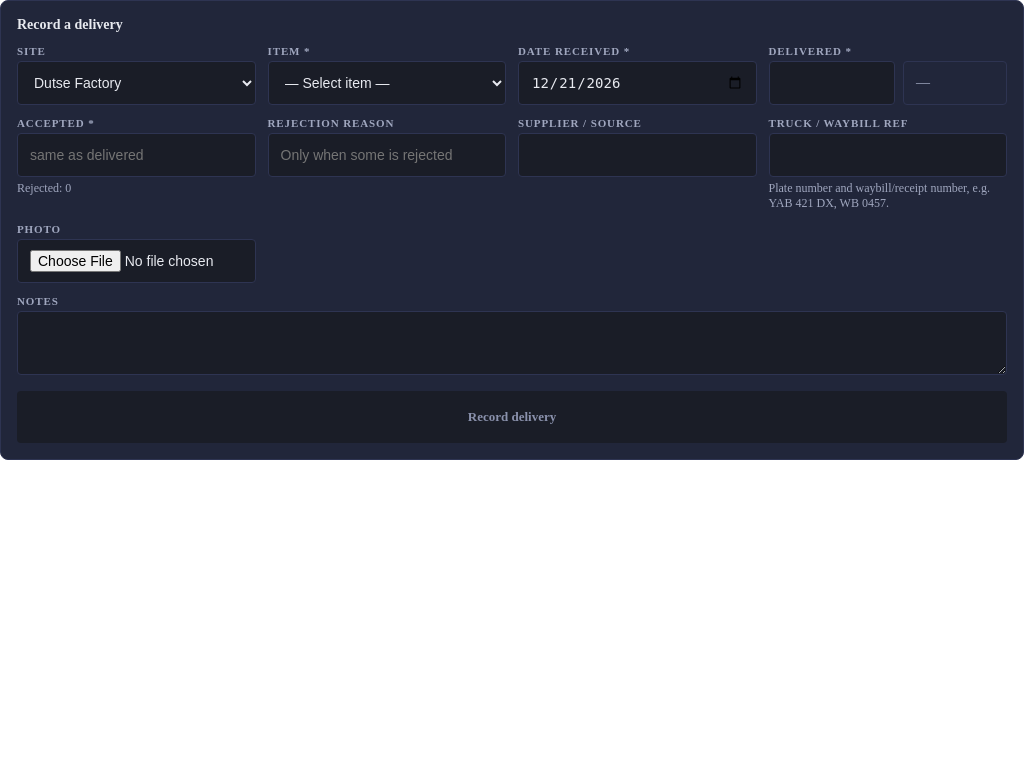
Test: ReceivingForm › resets the selector to each item’s default unit
The image size is (1024, 768).
Select "Granite dust (kg)" in the dropdown labelled "Item *" at x=387, y=83, box top-left (268, 61), bottom-right (506, 105)
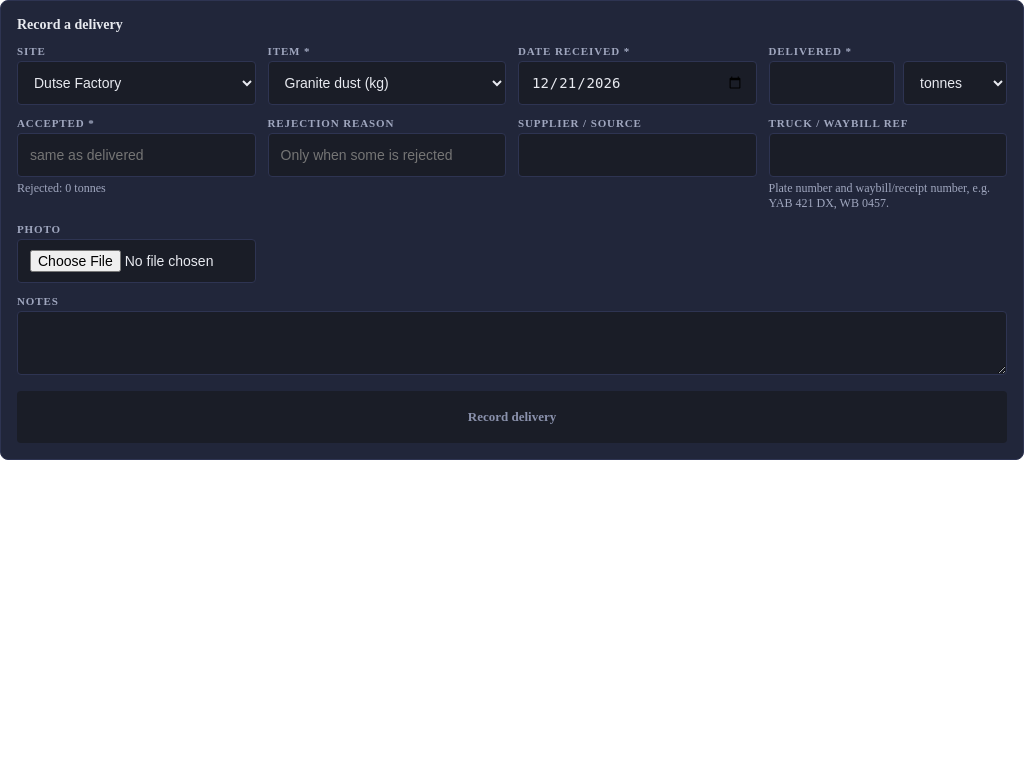
Expected: the dropdown named "Unit" shows "tonnes"
Select "kg" in the dropdown named "Unit" at x=955, y=83, box top-left (903, 61), bottom-right (1007, 105)
Select "Chippings (kg)" in the dropdown labelled "Item *" at x=387, y=83, box top-left (268, 61), bottom-right (506, 105)
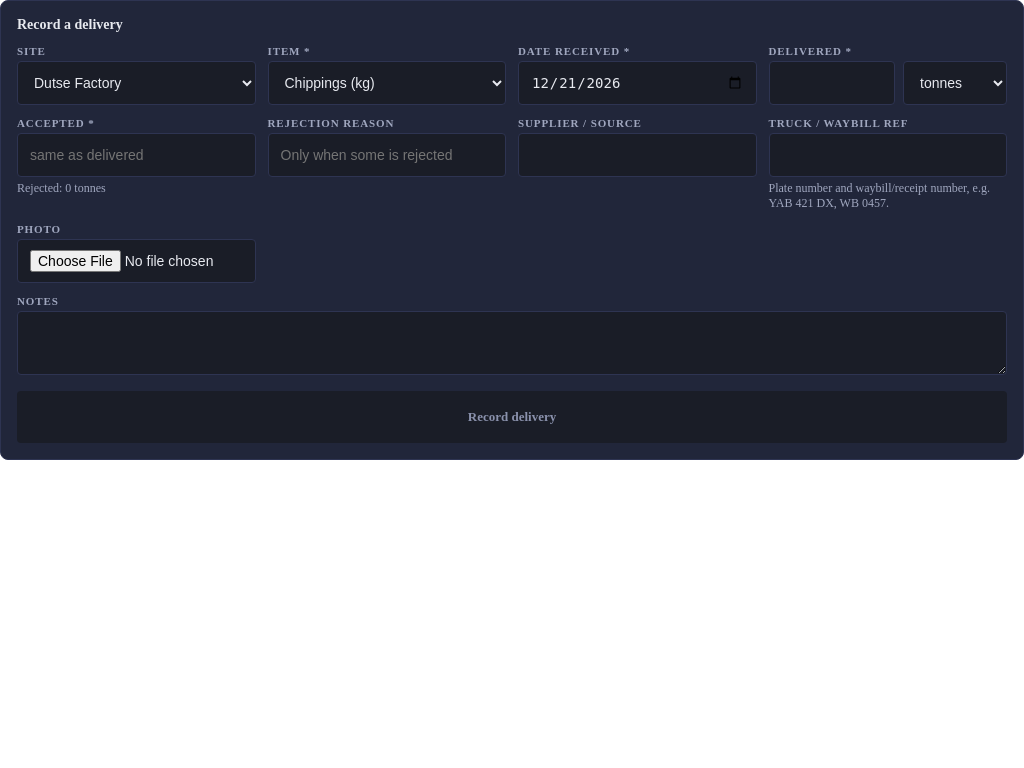
Select "Other stock (kg)" in the dropdown labelled "Item *" at x=387, y=83, box top-left (268, 61), bottom-right (506, 105)
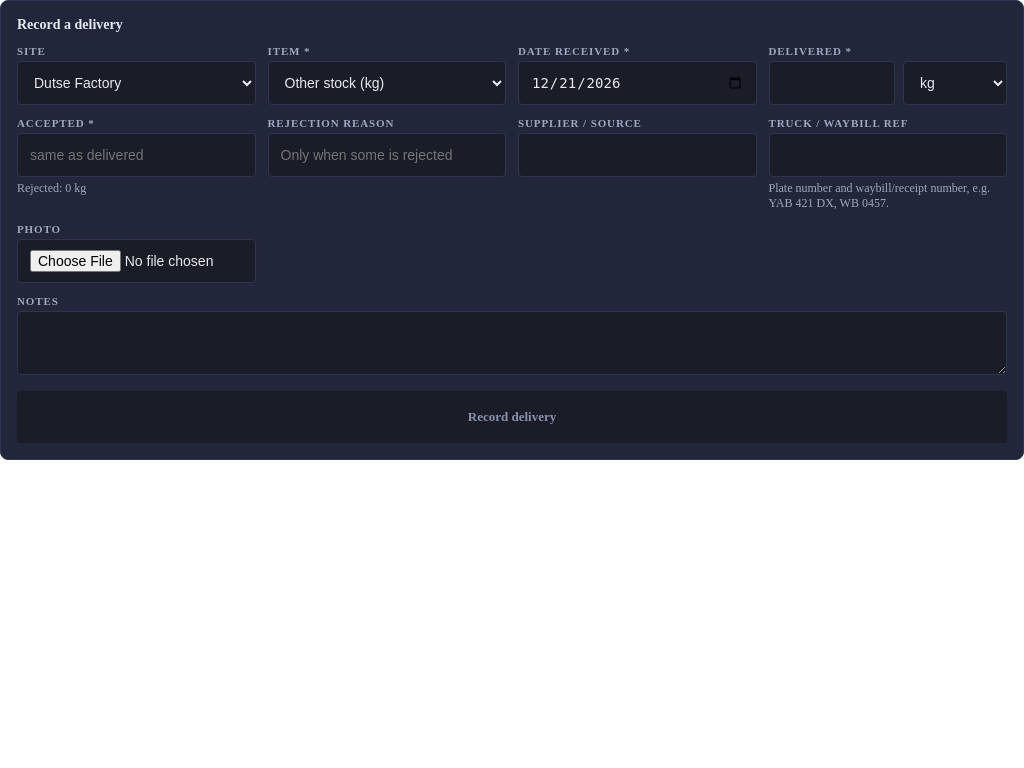
Select "tonnes" in the dropdown named "Unit" at x=955, y=83, box top-left (903, 61), bottom-right (1007, 105)
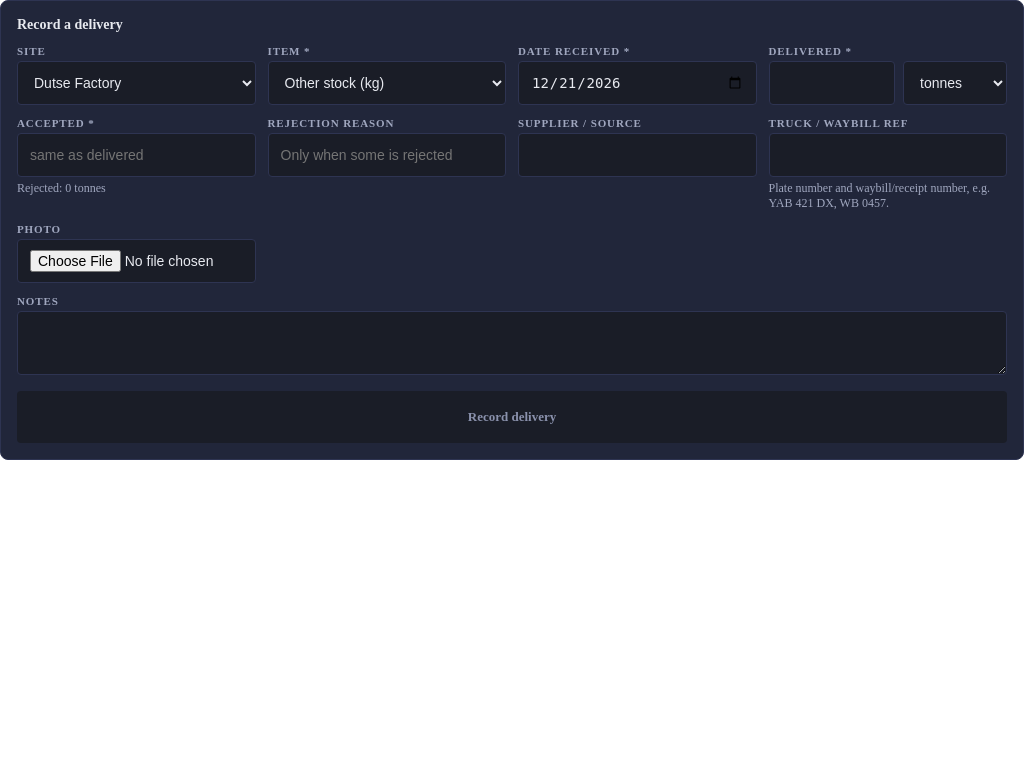
Select "Cement (bags)" in the dropdown labelled "Item *" at x=387, y=83, box top-left (268, 61), bottom-right (506, 105)
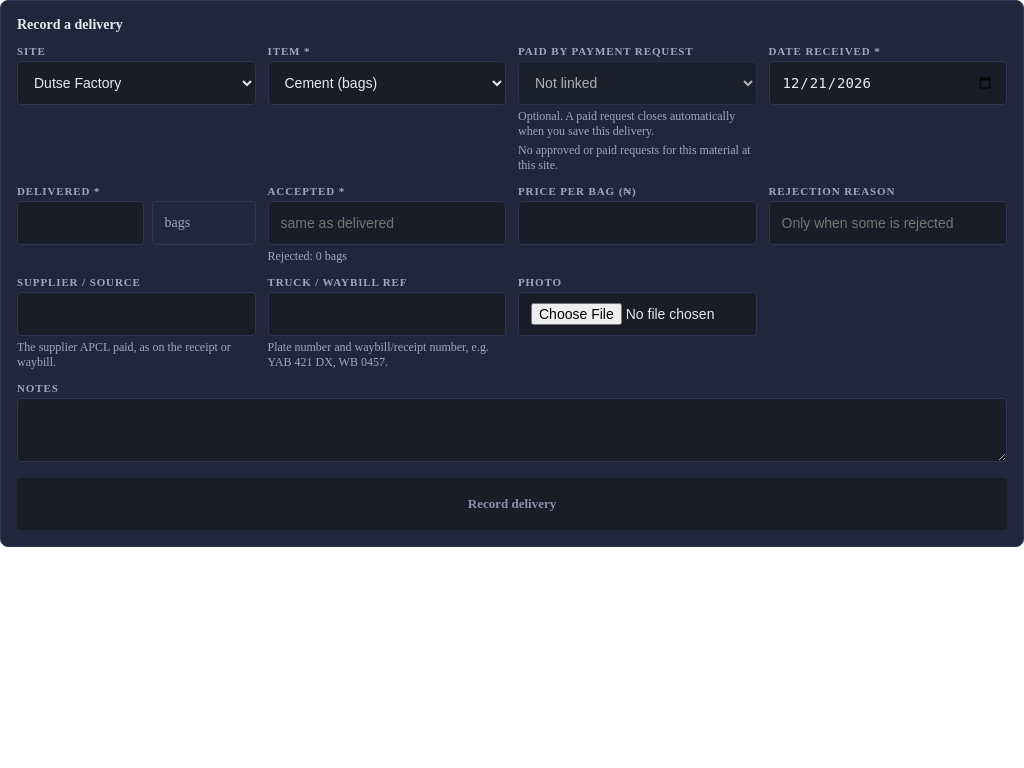
Expected: the dropdown labelled "Unit" is gone
Select "Other stock (kg)" in the dropdown labelled "Item *" at x=387, y=83, box top-left (268, 61), bottom-right (506, 105)
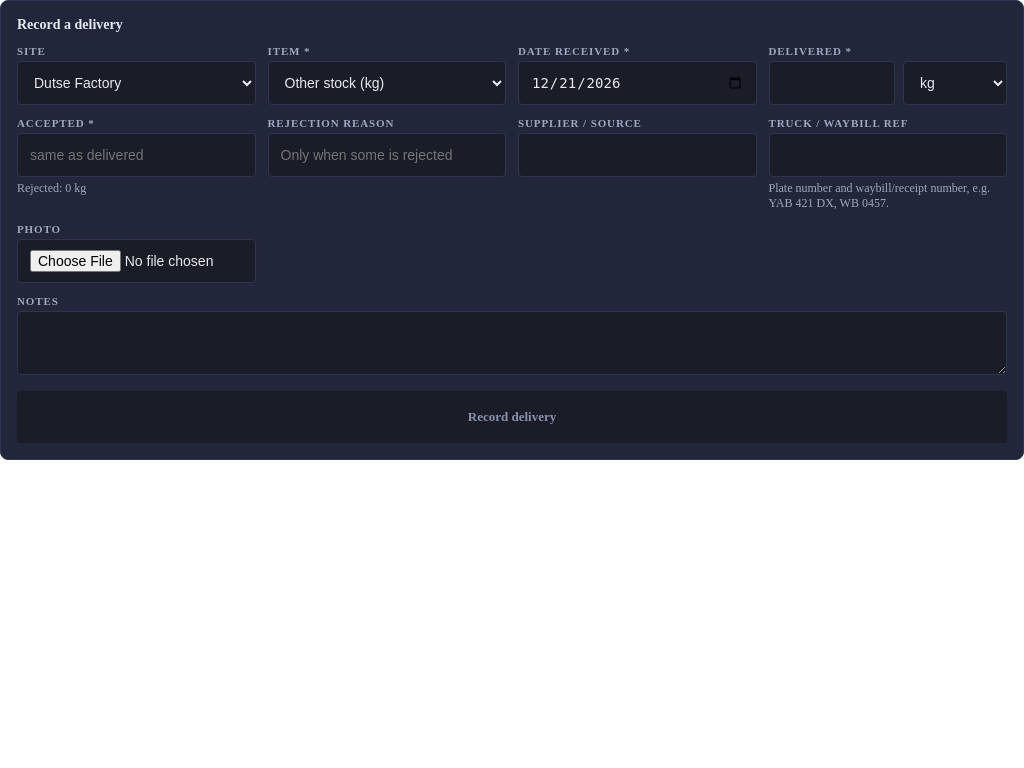
Expected: the dropdown named "Unit" shows "kg", top-left (903, 61), bottom-right (1007, 105)
